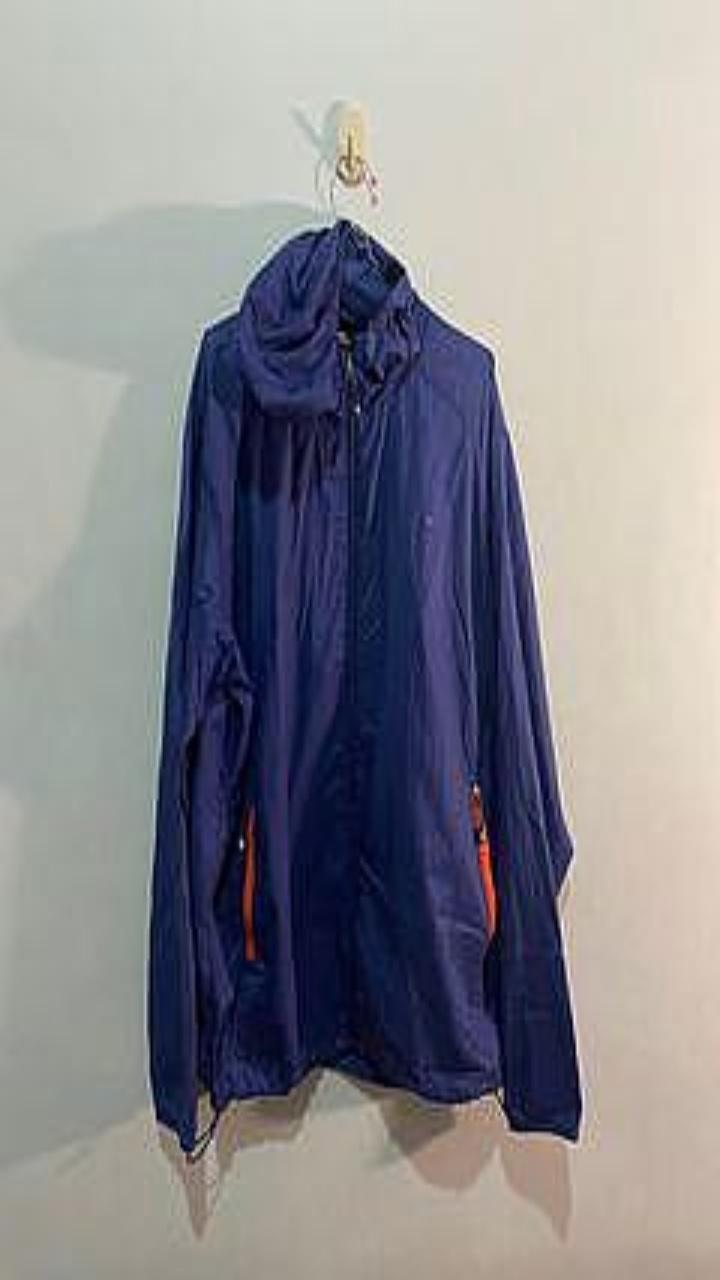Coat: (147, 217, 581, 1158)
